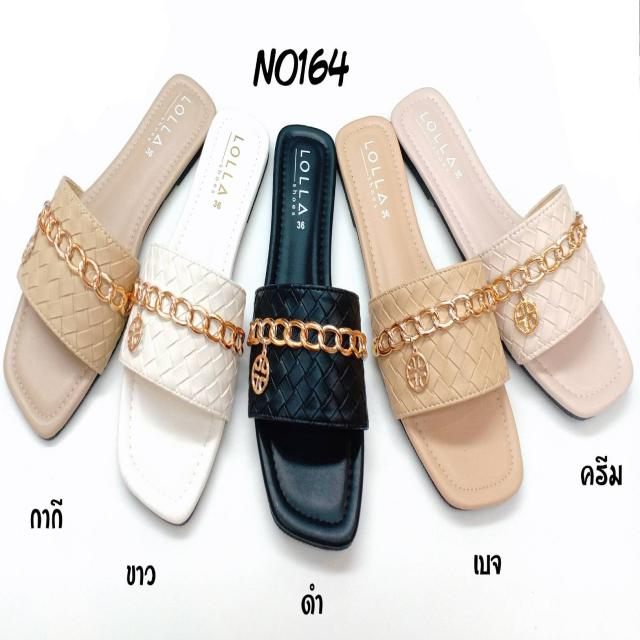bej: (337, 118, 526, 513)
black: (252, 121, 368, 537)
cream: (392, 81, 630, 418)
kakee: (3, 76, 216, 438)
white: (116, 118, 270, 522)
